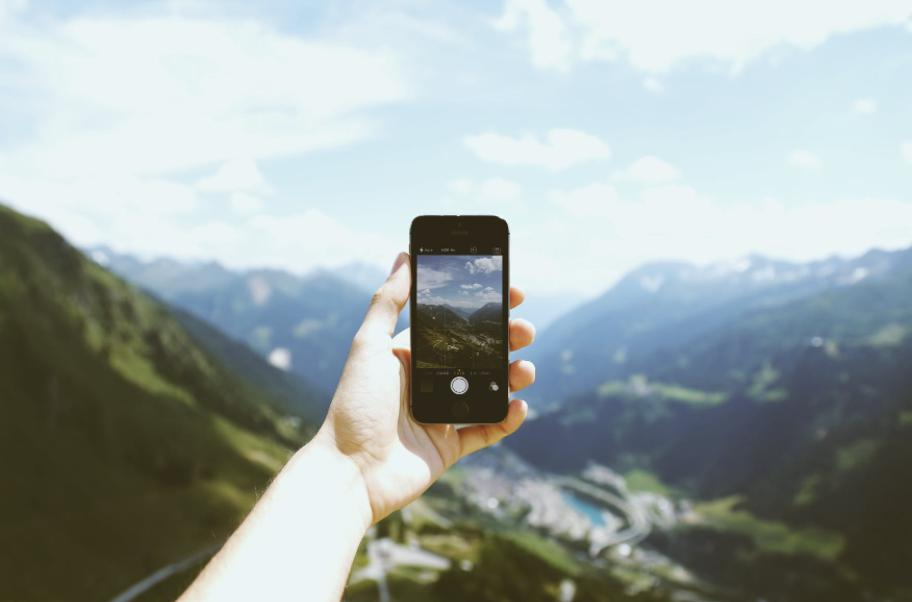mobile: (406, 210, 513, 427)
